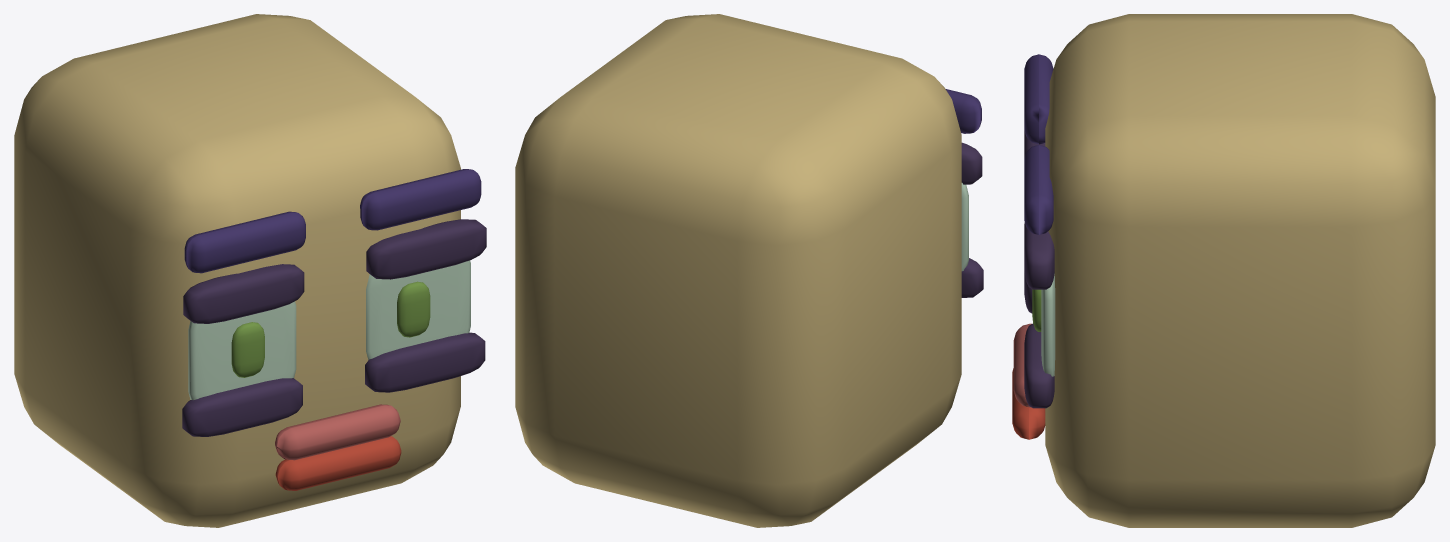
File: HeadRobot.glb
The picture shows the model from 3 angles, left to right: view 1: azimuth 30°, elevation 25°; view 2: azimuth 150°, elevation 25°; view 3: azimuth 270°, elevation 25°; orthographic projection. The views are drawn at different scales.
Parts seen in each view (by area): view 1: Head; view 2: Head; view 3: Head.
Part boxes in pixels (left/top/right/bottom): Head: left=14, top=14, right=486, bottom=527; Head: left=515, top=14, right=983, bottom=527; Head: left=1012, top=14, right=1435, bottom=527.
Size of the model in its own units: 0.7 by 0.8 by 0.7591.
